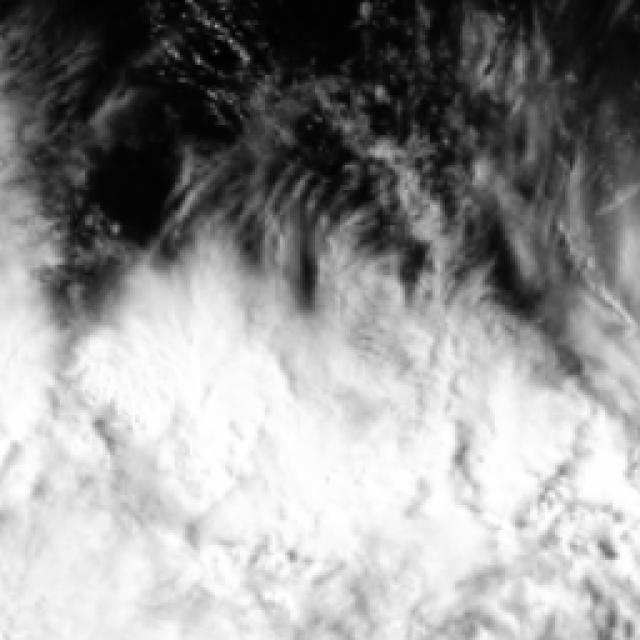CB: (214, 399, 365, 539), (125, 333, 270, 444)
